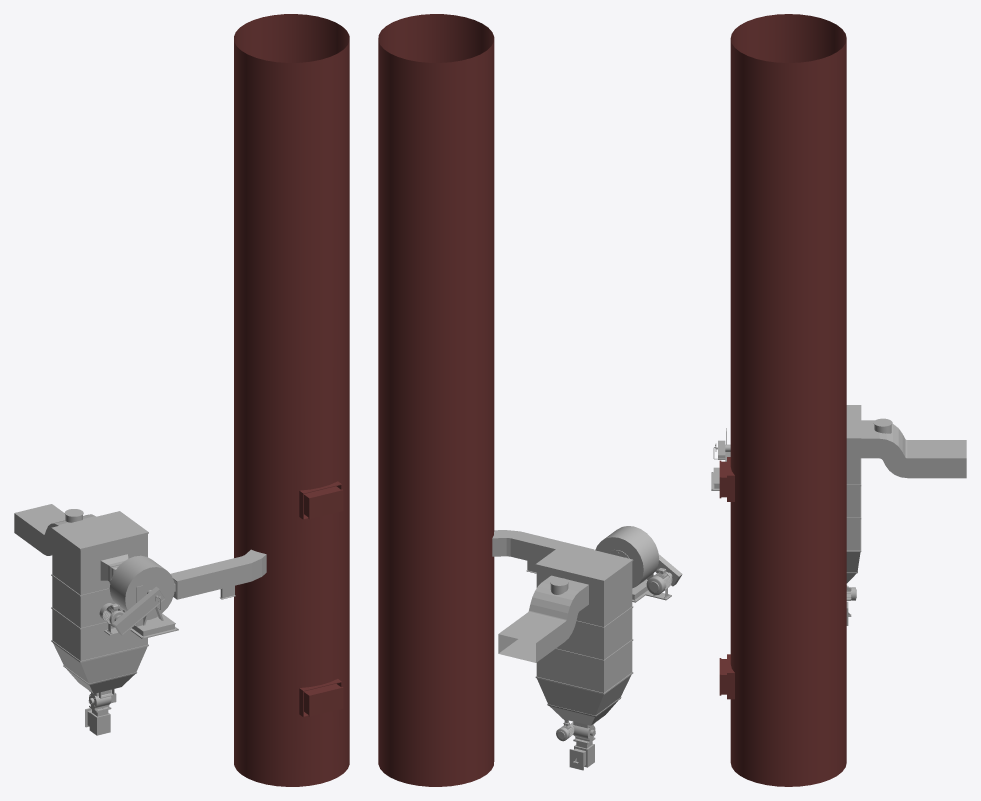
The model's file is AshCyclone.fbx.
3 views of the same model, side by side, from view 1: azimuth 30°, elevation 25°; view 2: azimuth 150°, elevation 25°; view 3: azimuth 270°, elevation 25° (orthographic).
Parts seen in each view (by area): view 1: Chimney, AshCyclone_Frame, AshCyclone_Main-2, AshCyclone_Outflow-1, AshCyclone_Inflow-1; view 2: Chimney, AshCyclone_Frame, AshCyclone_Inflow-1, AshCyclone_Main-2, AshCyclone_Outflow-1; view 3: Chimney, AshCyclone_Inflow-1, AshCyclone_Frame, AshCyclone_Main-2.
Part boxes in pixels (bbox=[...]): Chimney: bbox=[234, 14, 349, 786]; AshCyclone_Frame: bbox=[51, 511, 148, 735]; AshCyclone_Main-2: bbox=[99, 555, 178, 638]; AshCyclone_Outflow-1: bbox=[170, 549, 266, 599]; AshCyclone_Inflow-1: bbox=[14, 504, 95, 555]; Chimney: bbox=[378, 14, 494, 786]; AshCyclone_Frame: bbox=[535, 543, 633, 770]; AshCyclone_Inflow-1: bbox=[498, 575, 588, 662]; AshCyclone_Main-2: bbox=[595, 526, 682, 602]; AshCyclone_Outflow-1: bbox=[492, 530, 594, 573]; Chimney: bbox=[719, 14, 846, 786]; AshCyclone_Inflow-1: bbox=[860, 418, 966, 478]; AshCyclone_Frame: bbox=[846, 405, 861, 625]; AshCyclone_Main-2: bbox=[711, 428, 730, 490].
Bounding box in the file's own units: 416 × 1100 × 352.
